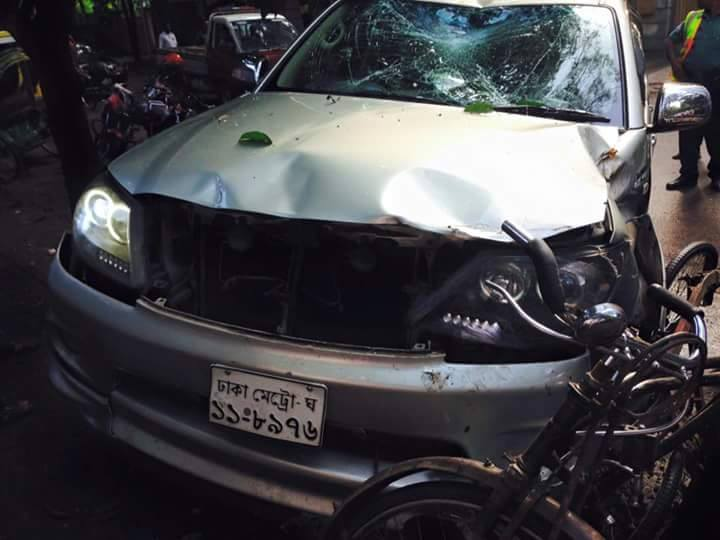registration_plate: (207, 364, 328, 451)
